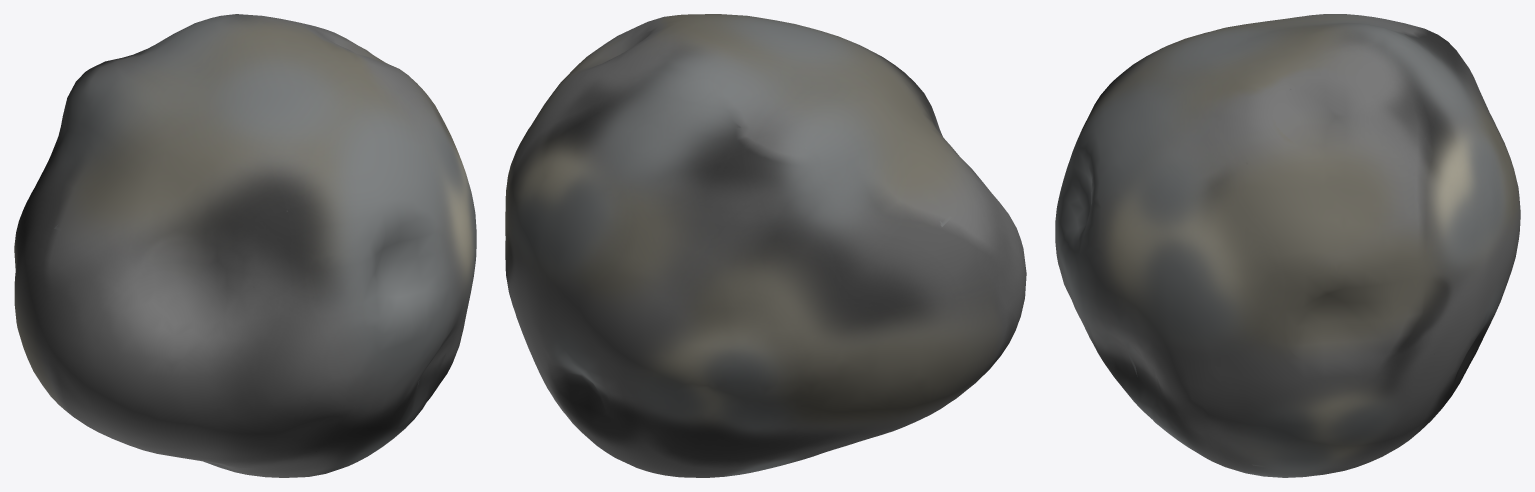
Rendered from meteorit.glb.
3 views of the same model, side by side, from view 1: azimuth 30°, elevation 25°; view 2: azimuth 150°, elevation 25°; view 3: azimuth 270°, elevation 25° (orthographic). The views are drawn at different scales.
Parts seen in each view (by area): view 1: метеорит; view 2: метеорит; view 3: метеорит.
Part boxes in pixels (x1,y1,x2,y2): метеорит: [14, 14, 476, 477]; метеорит: [505, 14, 1026, 477]; метеорит: [1055, 14, 1520, 477].
Bounding box in the file's own units: 3.43 × 3.25 × 3.24.
Materials: 1 (1 with a texture image).
